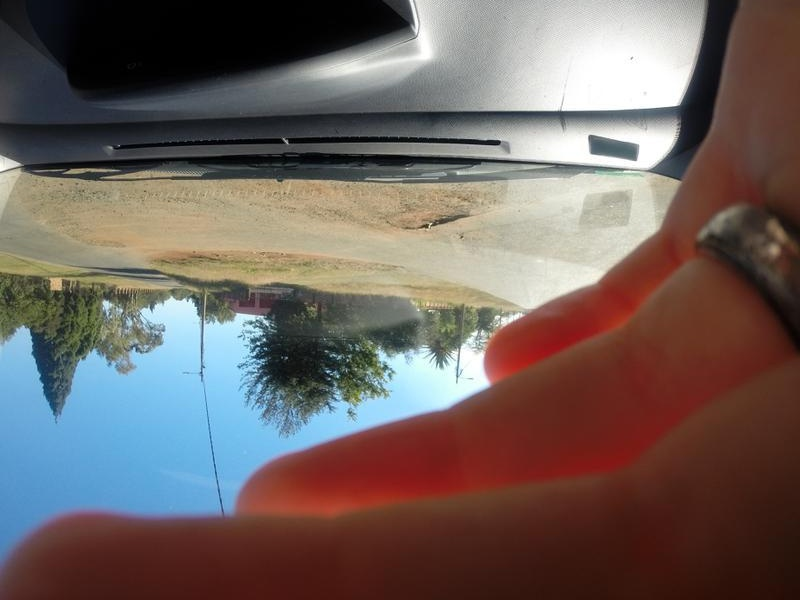pothole: (369, 194, 478, 238)
